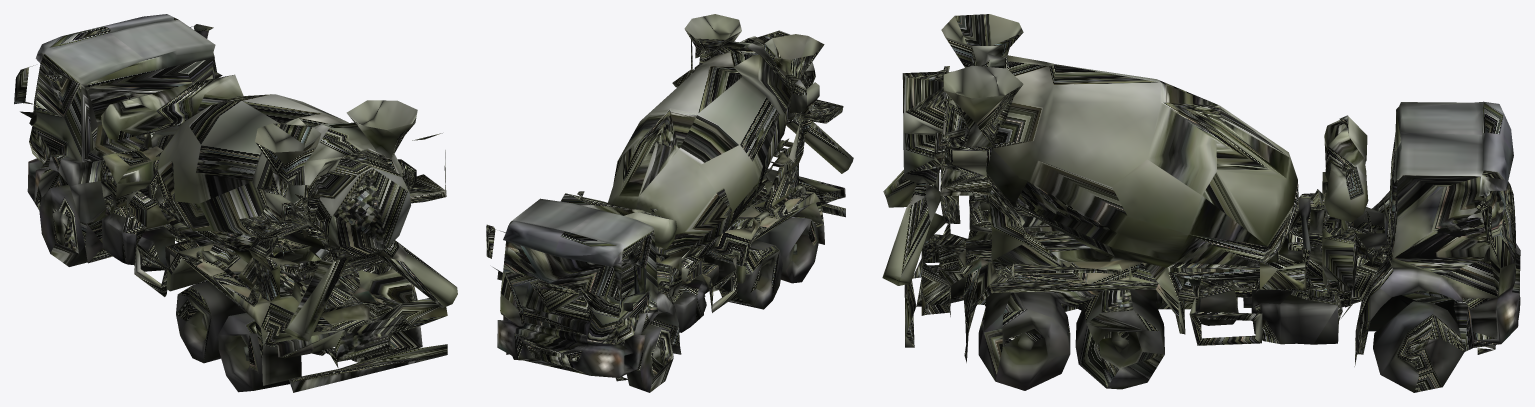
File: caminhao-betoneira_lod1.glb
3 renders of one model, left to right at view 1: azimuth 30°, elevation 25°; view 2: azimuth 150°, elevation 25°; view 3: azimuth 270°, elevation 25°, orthographic. The views are drawn at different scales.
Parts seen in each view (by area): view 1: tripo_node_4ebe76d3-72bb-4ced-b484-8aea0289d15a; view 2: tripo_node_4ebe76d3-72bb-4ced-b484-8aea0289d15a; view 3: tripo_node_4ebe76d3-72bb-4ced-b484-8aea0289d15a.
Part boxes in pixels (box(x1,y1,x2,y2)): tripo_node_4ebe76d3-72bb-4ced-b484-8aea0289d15a: box(14, 14, 457, 392); tripo_node_4ebe76d3-72bb-4ced-b484-8aea0289d15a: box(486, 14, 853, 392); tripo_node_4ebe76d3-72bb-4ced-b484-8aea0289d15a: box(882, 14, 1520, 392).
Size of the model in its own units: 3.35 by 4.3 by 8.49.
Materials: 1 (1 with a texture image).
